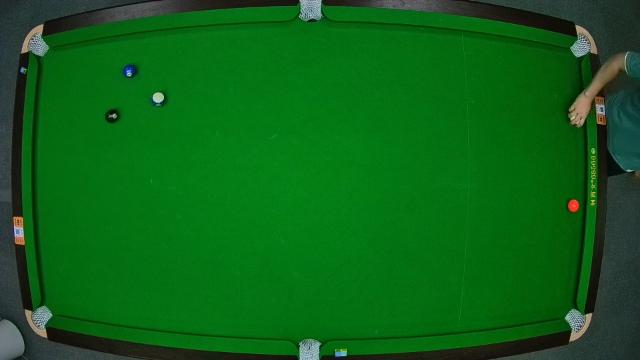bag1: (26, 35, 46, 57)
bag2: (300, 2, 322, 22)
bag3: (575, 38, 593, 56)
bag4: (30, 306, 50, 328)
bag5: (298, 340, 320, 360)
bag6: (566, 312, 586, 332)
ball10: (152, 91, 166, 107)
ball2: (122, 64, 138, 80)
ball5: (568, 199, 580, 213)
ball8: (106, 109, 120, 124)
